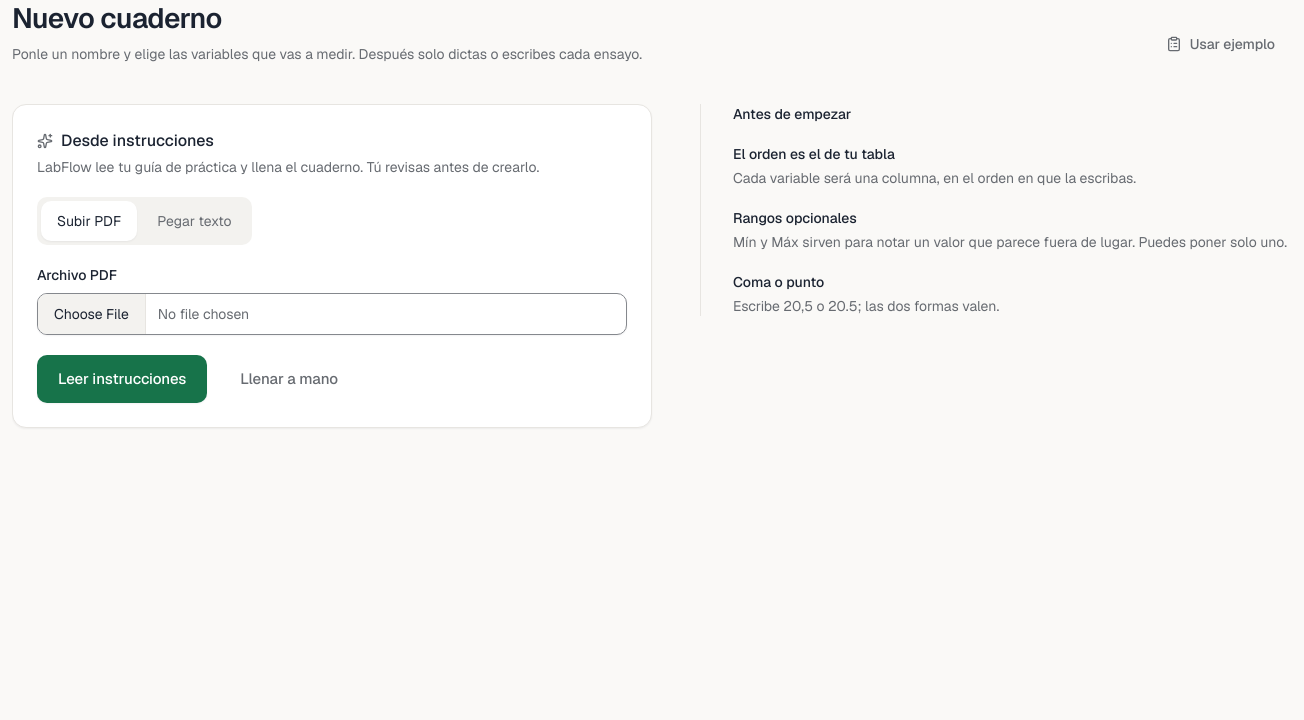
it: a failed read (AC-28) › opens the form with the instructions attached and a Reintentar
Click the radio button labelled "Pegar texto" at [194, 221], box left=157, top=212, right=232, bottom=230
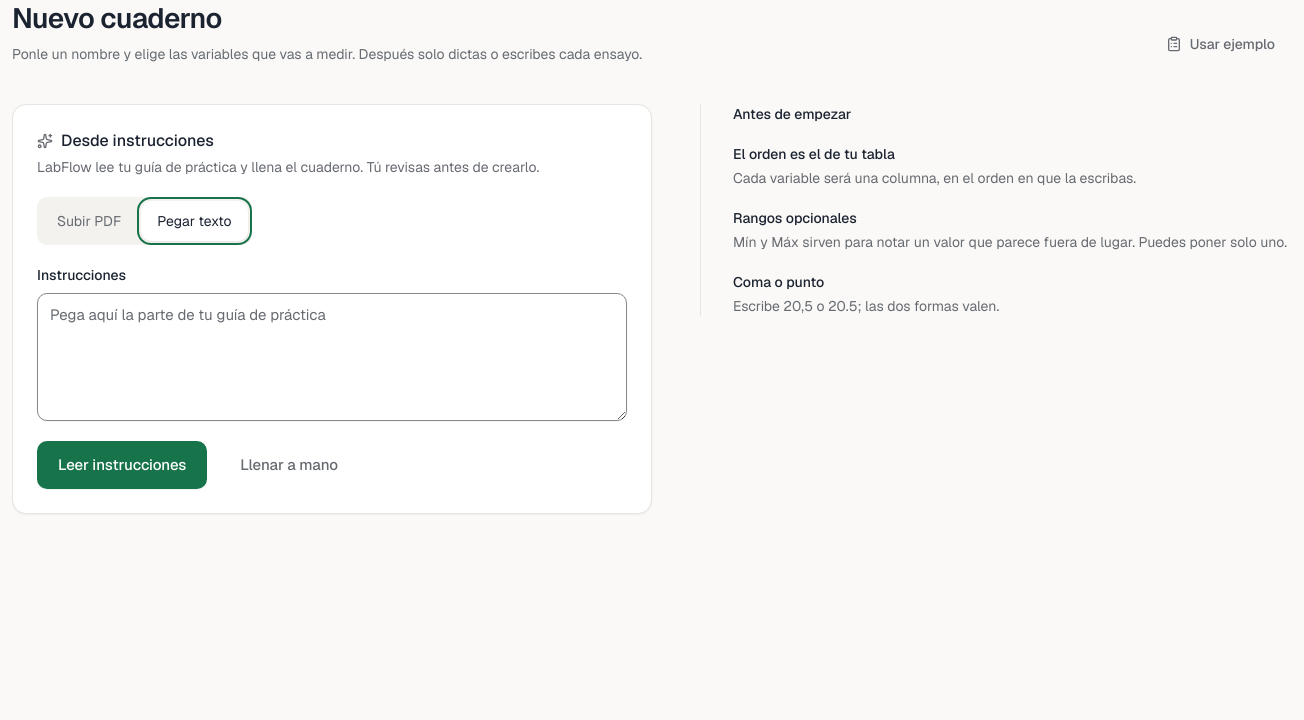
Click the text box labelled "Instrucciones" at [332, 357], box left=37, top=293, right=627, bottom=421
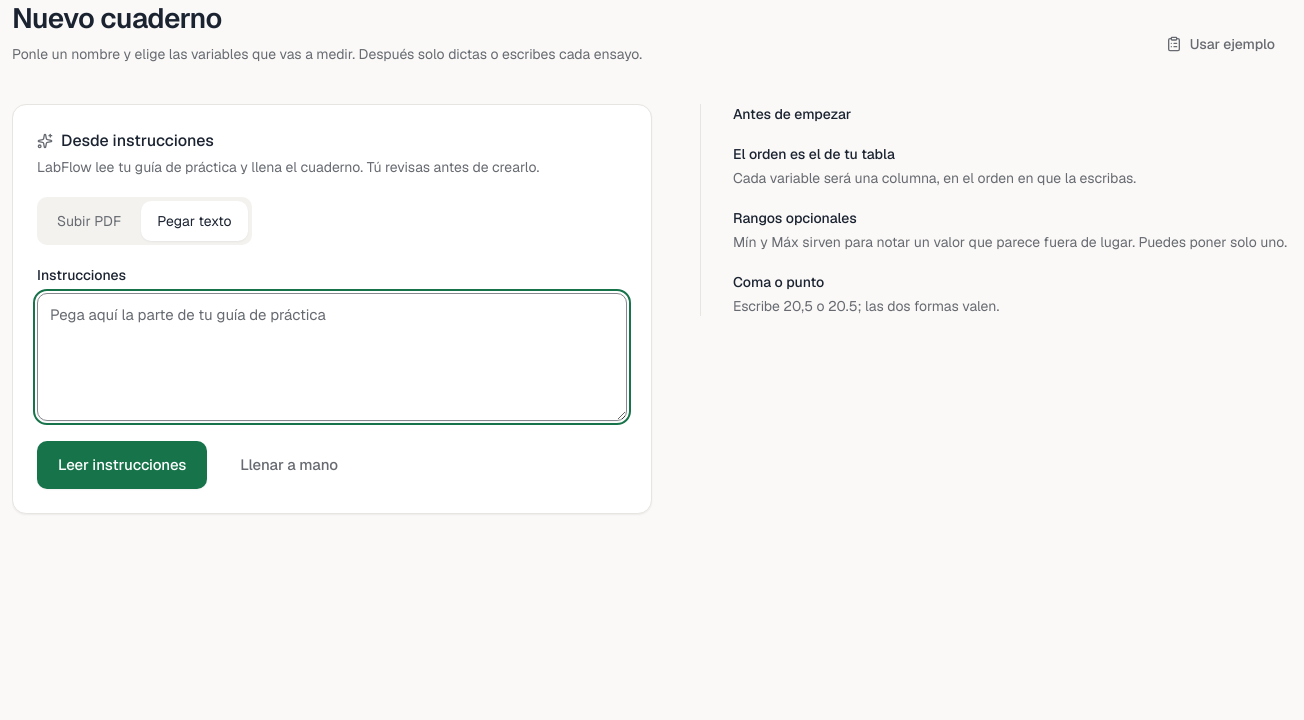
Type keys "Práctica 3. Mida la temperatura (entre 40 y 80 °C) y el rendimiento en %."
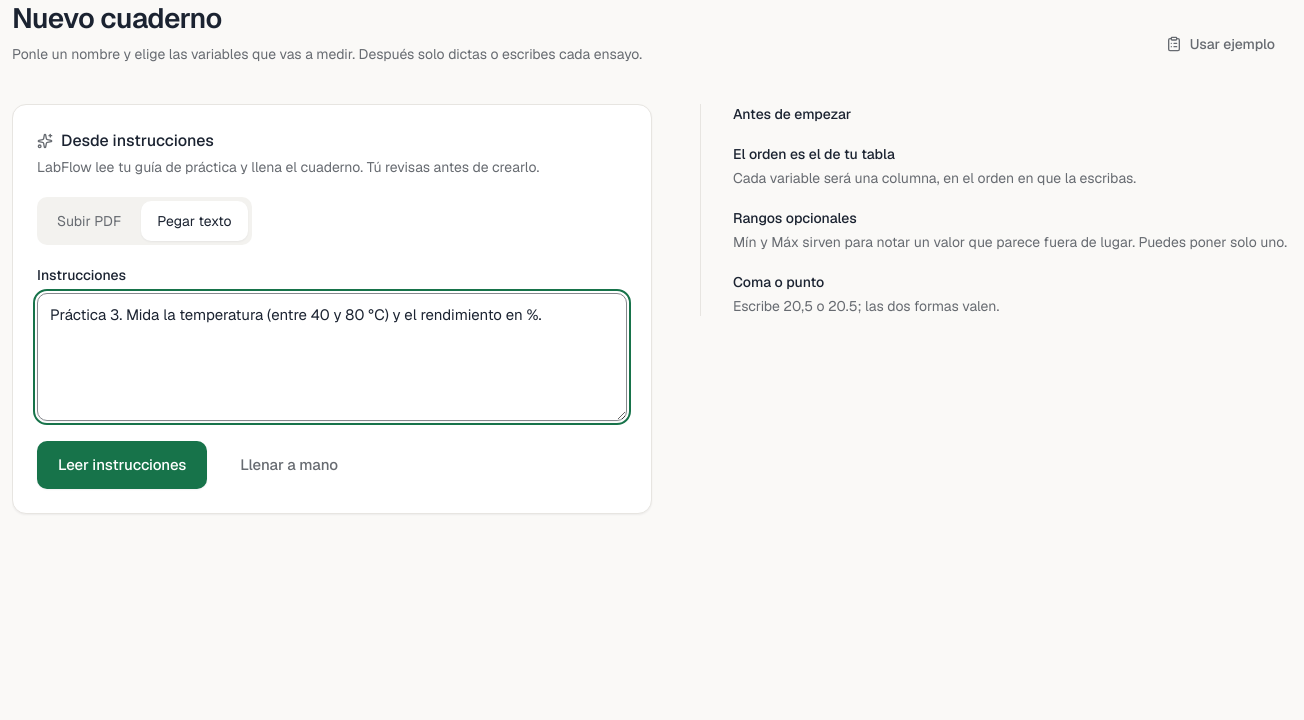
Click the button "Leer instrucciones" at [122, 465], box left=37, top=441, right=207, bottom=489
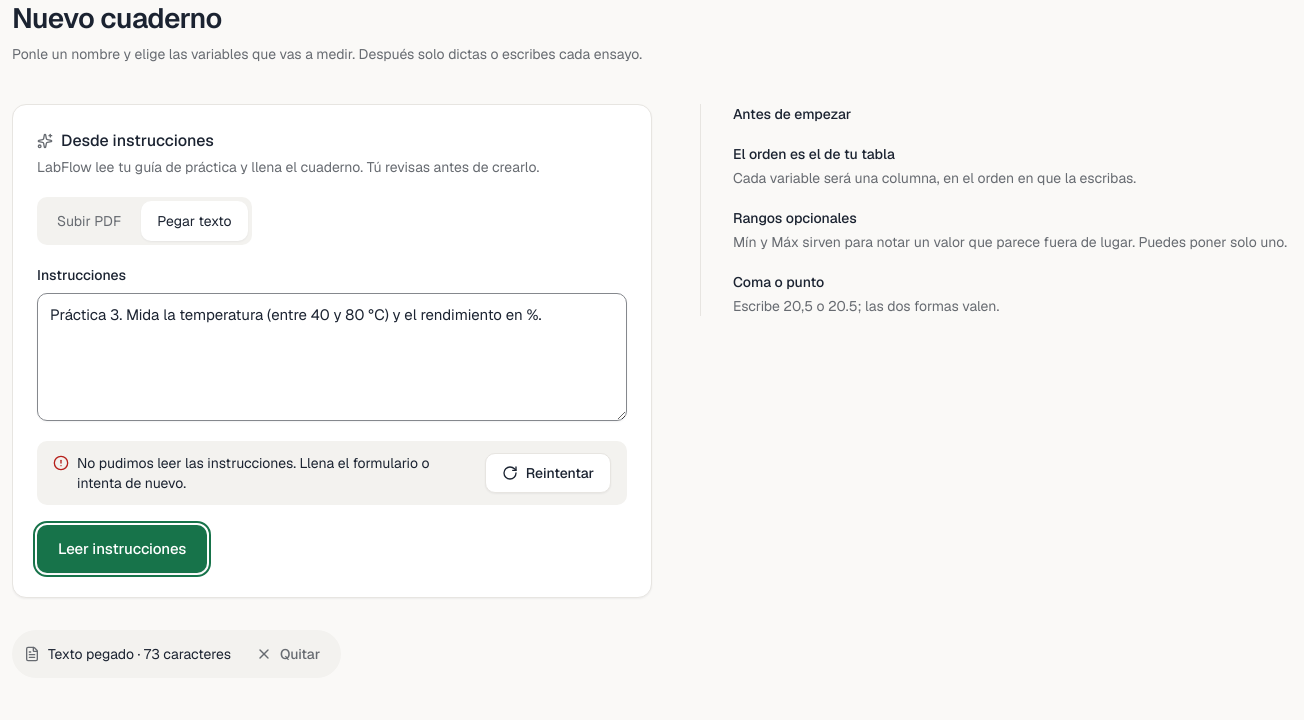
Expected: the text "No pudimos leer las instrucciones. Llena el formulario o intenta de nuevo." is shown, left=53, top=453, right=473, bottom=493
Click the button "Reintentar" at [548, 473], box left=485, top=453, right=611, bottom=493
(page scrolled)
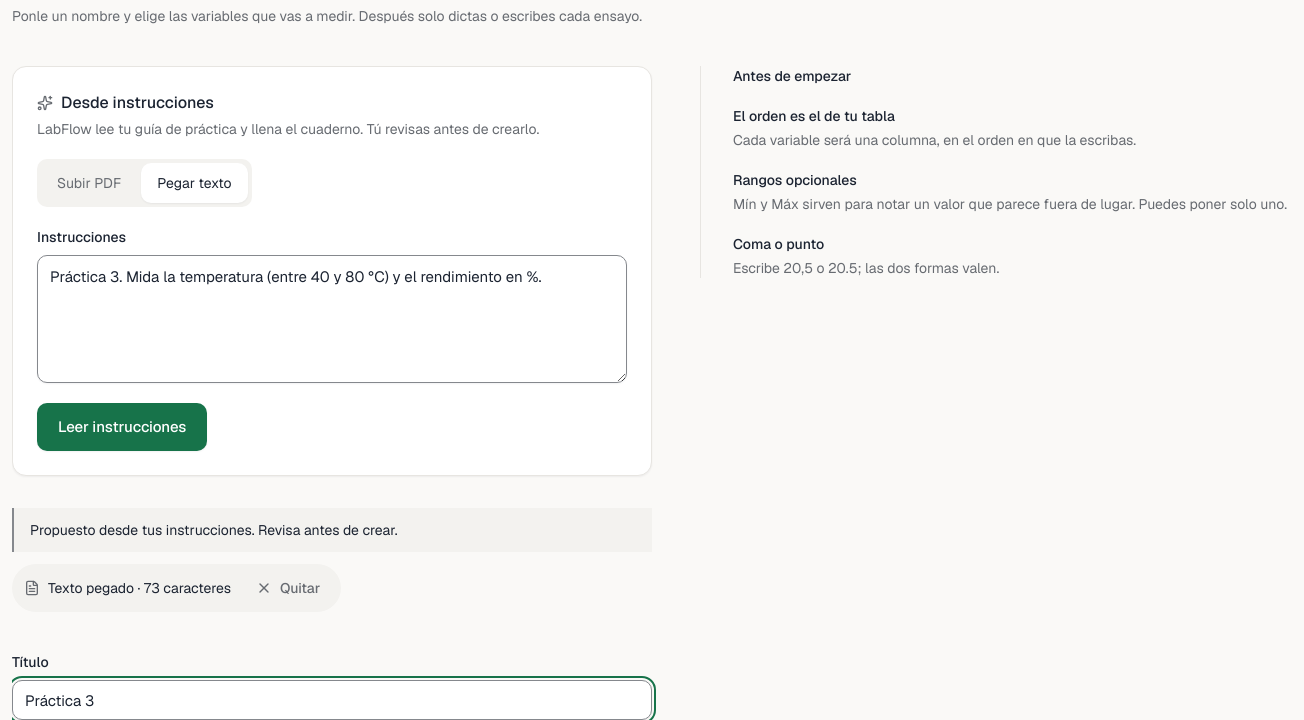
Expected: the field labelled "Título" holds "Práctica 3", left=12, top=680, right=652, bottom=719
